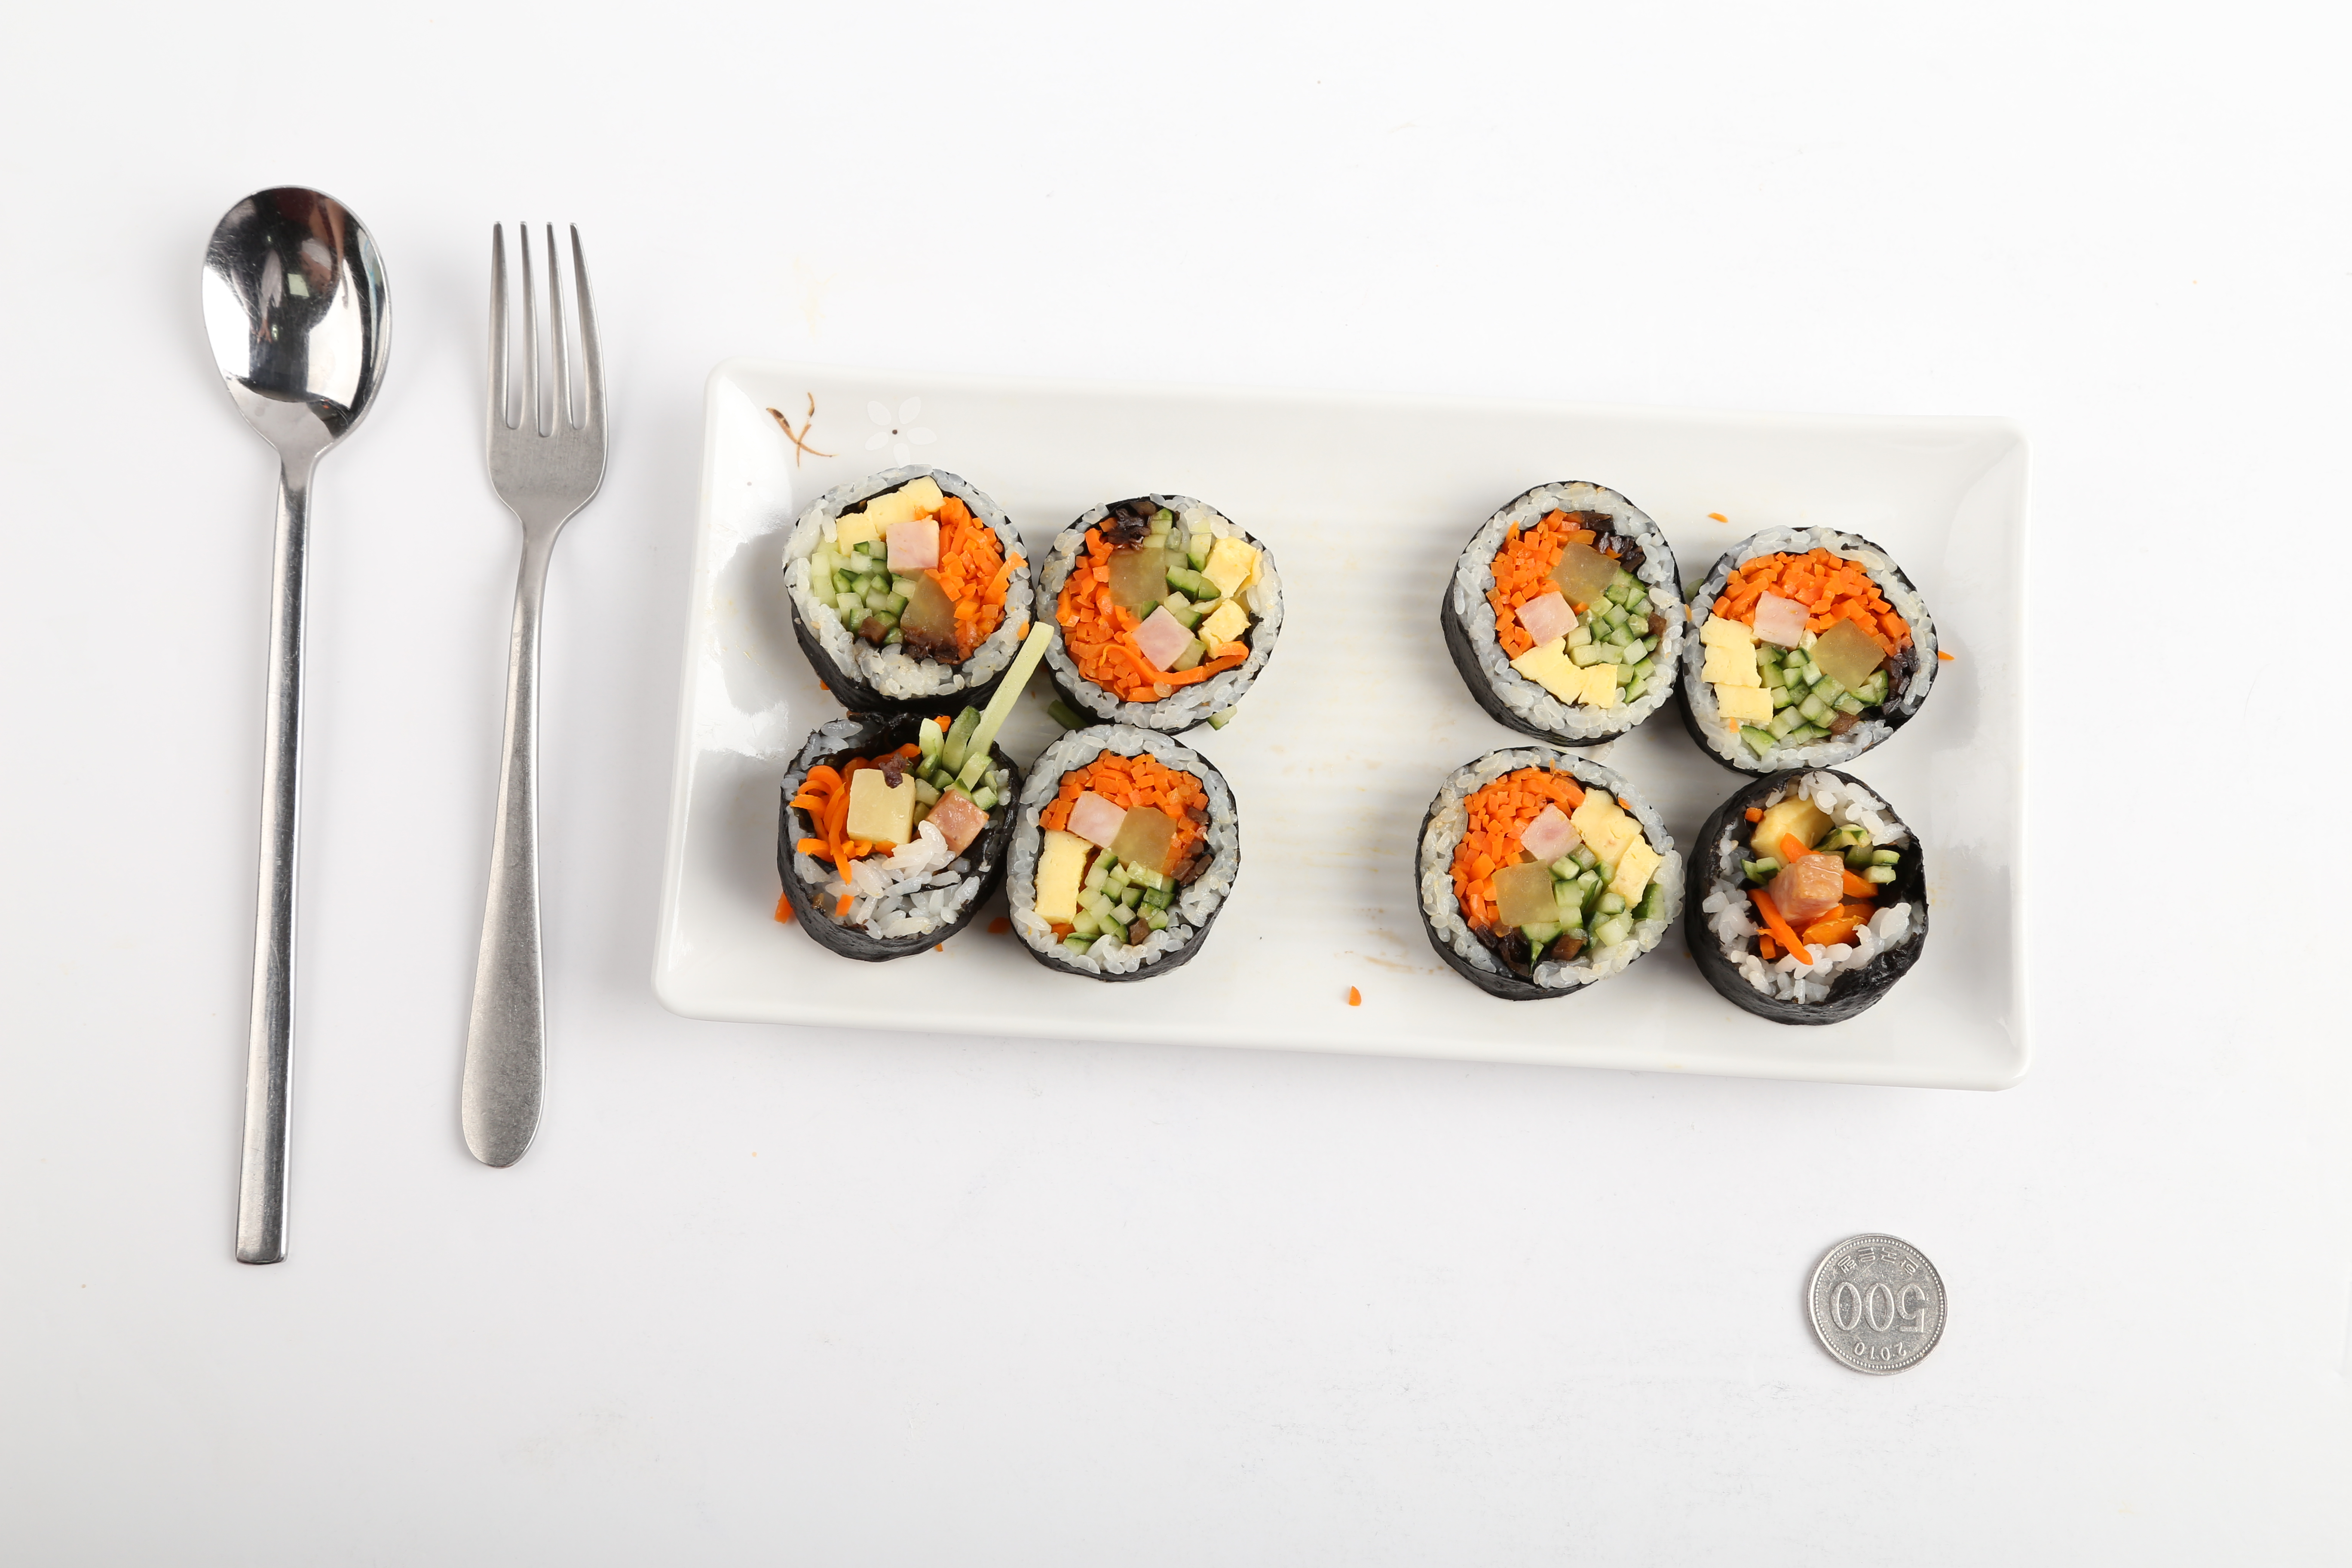dish: (689, 352, 2040, 1092)
ref_coin: (1801, 1223, 1953, 1379)
ref_fork: (479, 210, 614, 562)
ref_spoon: (194, 175, 397, 520)
김밥: (772, 457, 1934, 1029)
